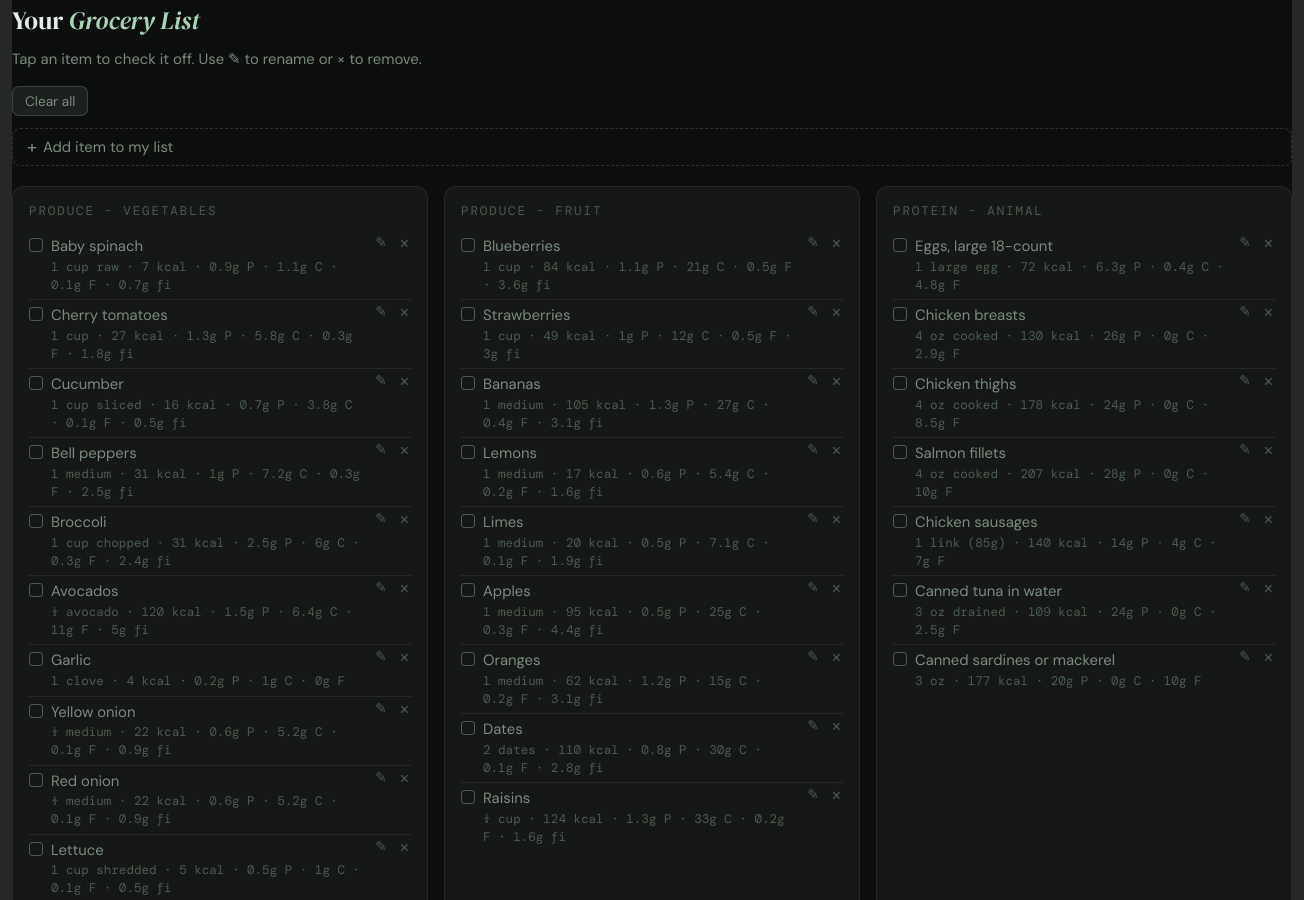
GroceryPanel — dynamic catalog › user-added item has a × remove button
The width and height of the screenshot is (1304, 900).
Click the button with aria-label "add grocery item" at (108, 147), box [12, 128, 1292, 166]
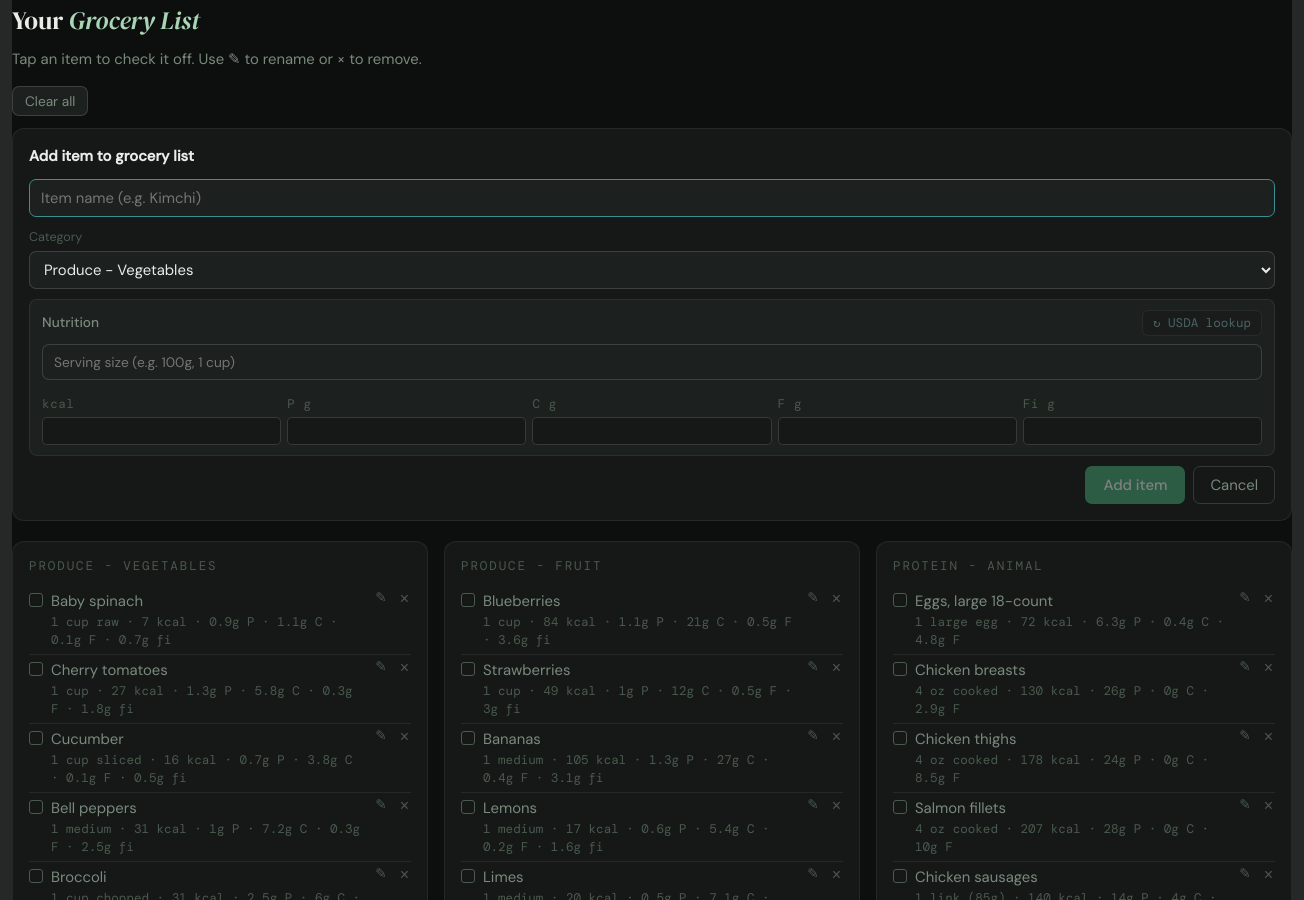
Type "Tempeh" into the field with placeholder "Item name (e.g. Kimchi)" at (652, 198), box [29, 179, 1275, 217]
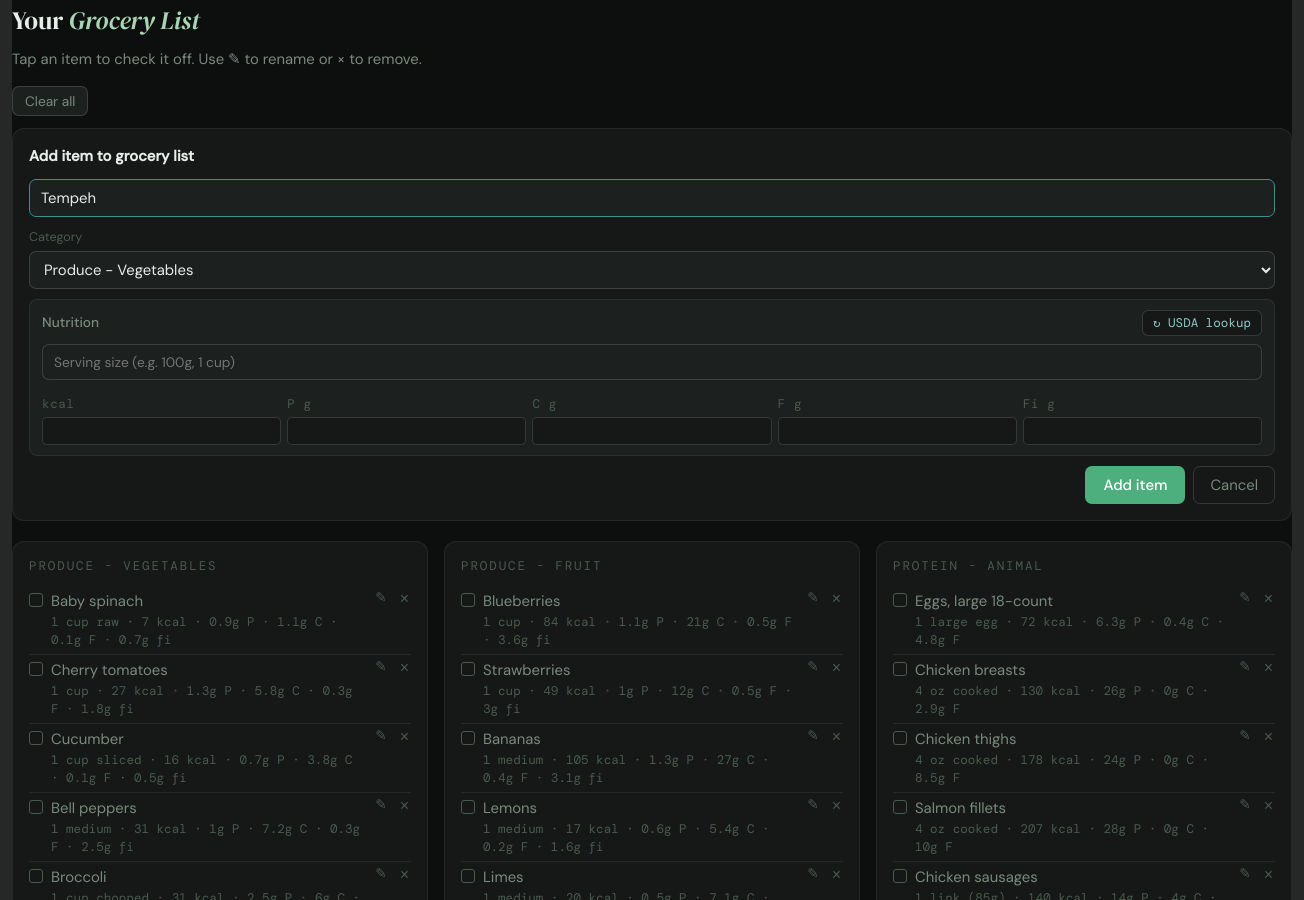
Click the button "Add item" at (1136, 485), box [1086, 466, 1186, 504]
(page scrolled)
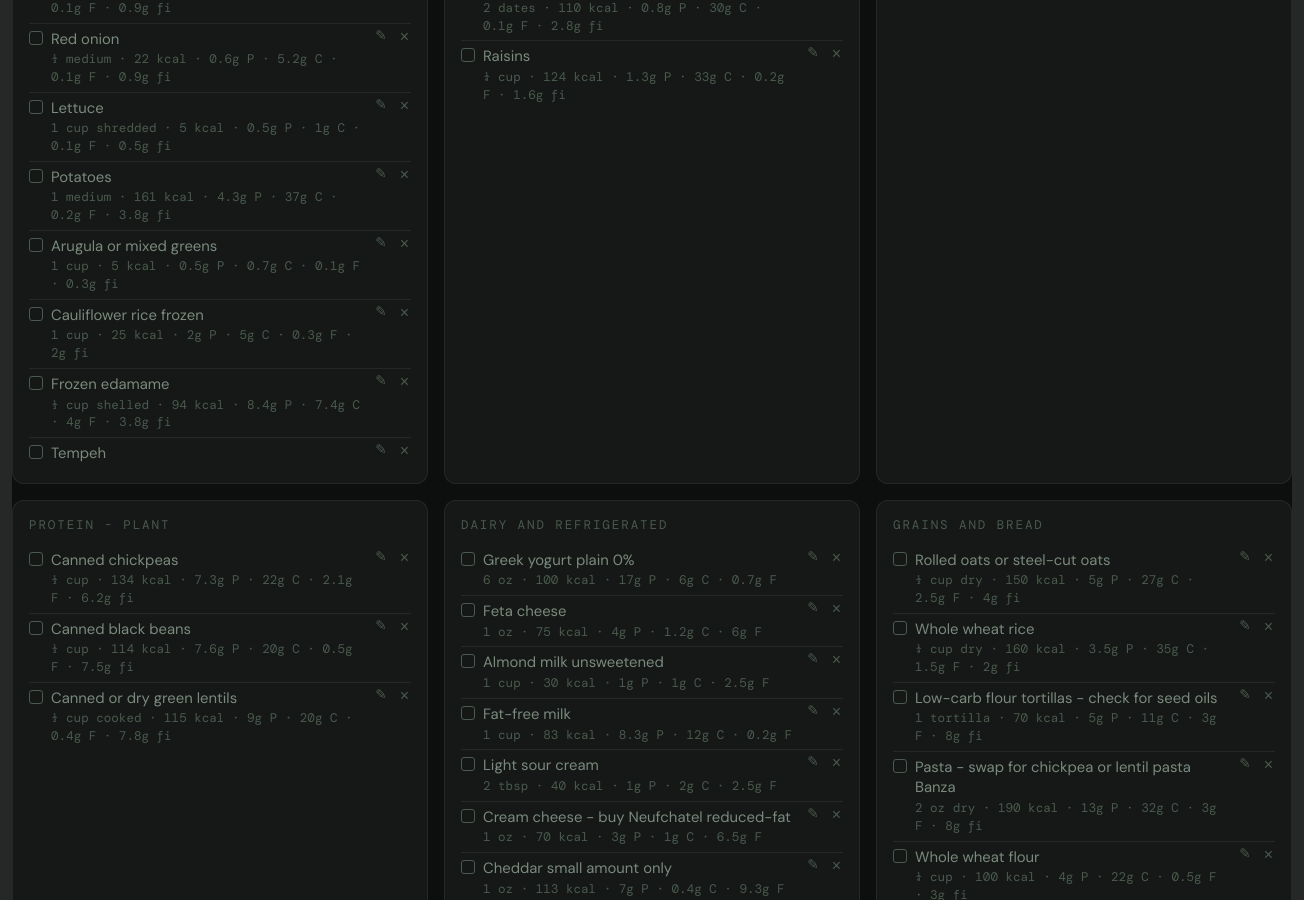
Expected: the button named "Remove Tempeh" is shown, [398, 443, 411, 459]
